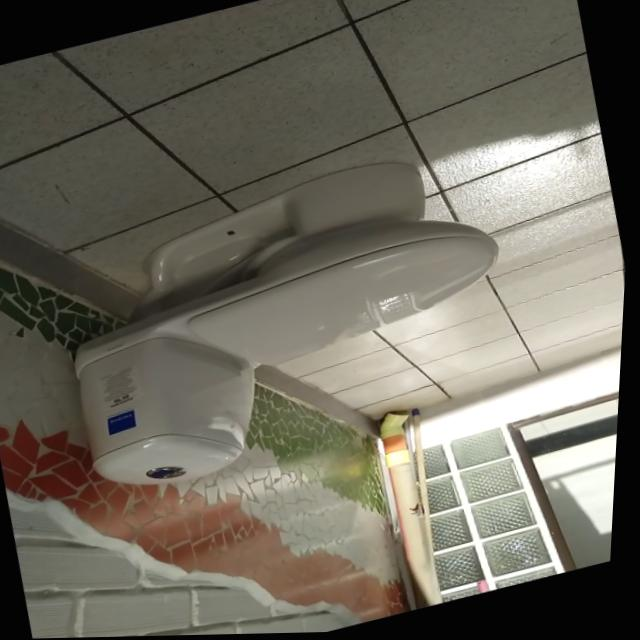toilet: (42, 137, 541, 505)
